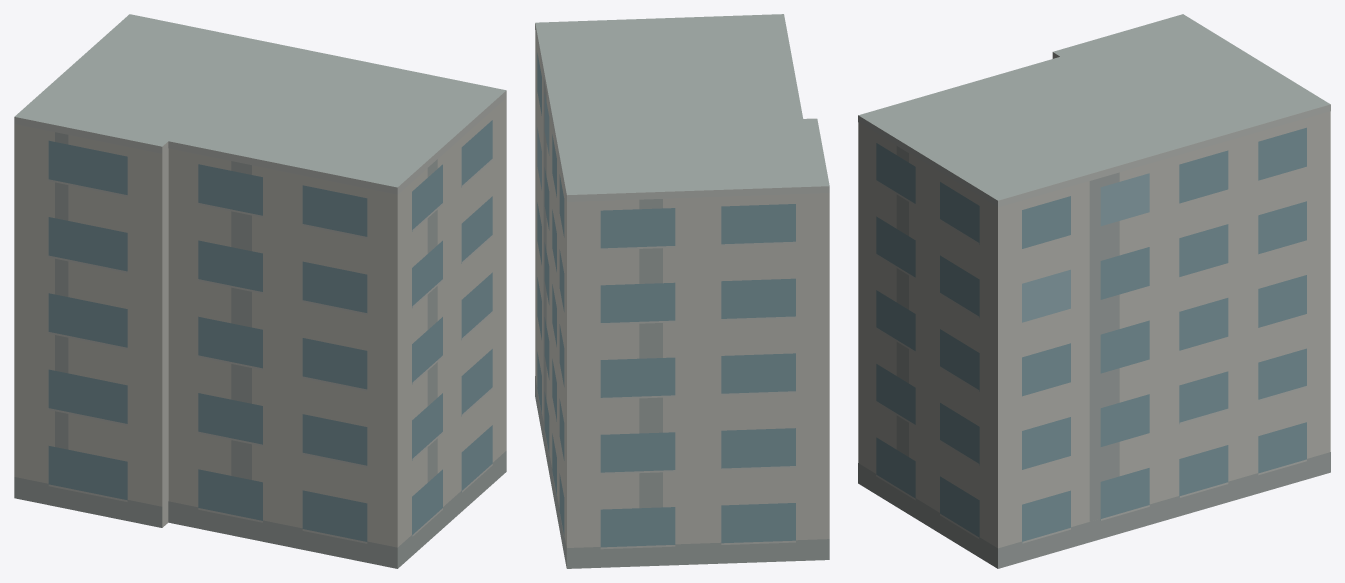
Rendered from survey-upis-32959814.glb.
The picture shows the model from 3 angles, left to right: view 1: azimuth 30°, elevation 25°; view 2: azimuth 150°, elevation 25°; view 3: azimuth 270°, elevation 25°; orthographic projection. The views are drawn at different scales.
Parts seen in each view (by area): view 1: survey-upis-32959814.tmp; view 2: survey-upis-32959814.tmp; view 3: survey-upis-32959814.tmp.
Boxes of the visible parts, box(x1,y1,x2,y2) form: survey-upis-32959814.tmp: box(14, 14, 506, 568); survey-upis-32959814.tmp: box(535, 14, 829, 568); survey-upis-32959814.tmp: box(858, 14, 1330, 568).
Size of the model in its own units: 14.23 by 13.07 by 15.21.
